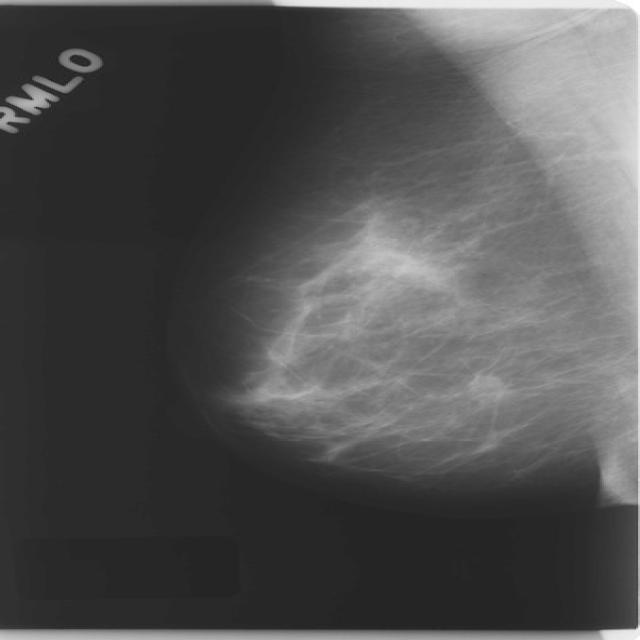tumour: (464, 373, 508, 406)
